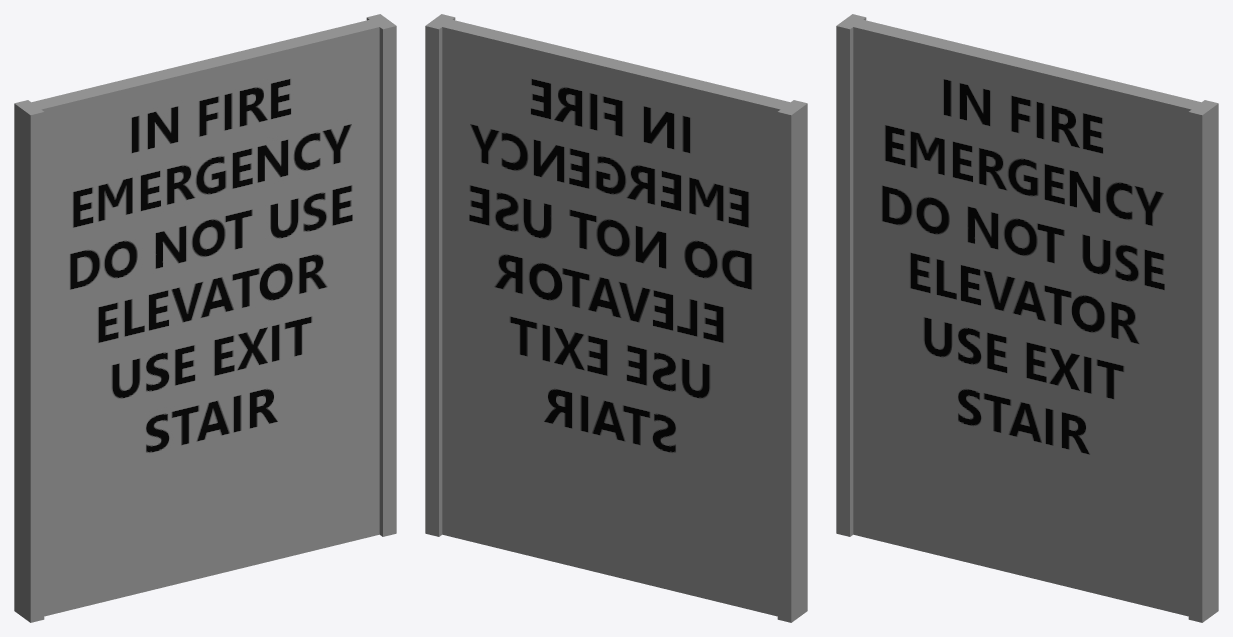
The model's file is Emergency_sign_FBX.fbx.
3 views of the same model, side by side, from view 1: azimuth 30°, elevation 25°; view 2: azimuth 150°, elevation 25°; view 3: azimuth 330°, elevation 25° (orthographic).
Parts seen in each view (by area): view 1: pCube1; view 2: pCube1; view 3: pCube1.
Part boxes in pixels (<box>): pCube1: <box>14,14,396,622</box>; pCube1: <box>425,14,807,622</box>; pCube1: <box>836,14,1218,622</box>.
Bounding box in the file's own units: 7.01 × 9.29 × 0.5415.
Materials: 1 (1 with a texture image).
